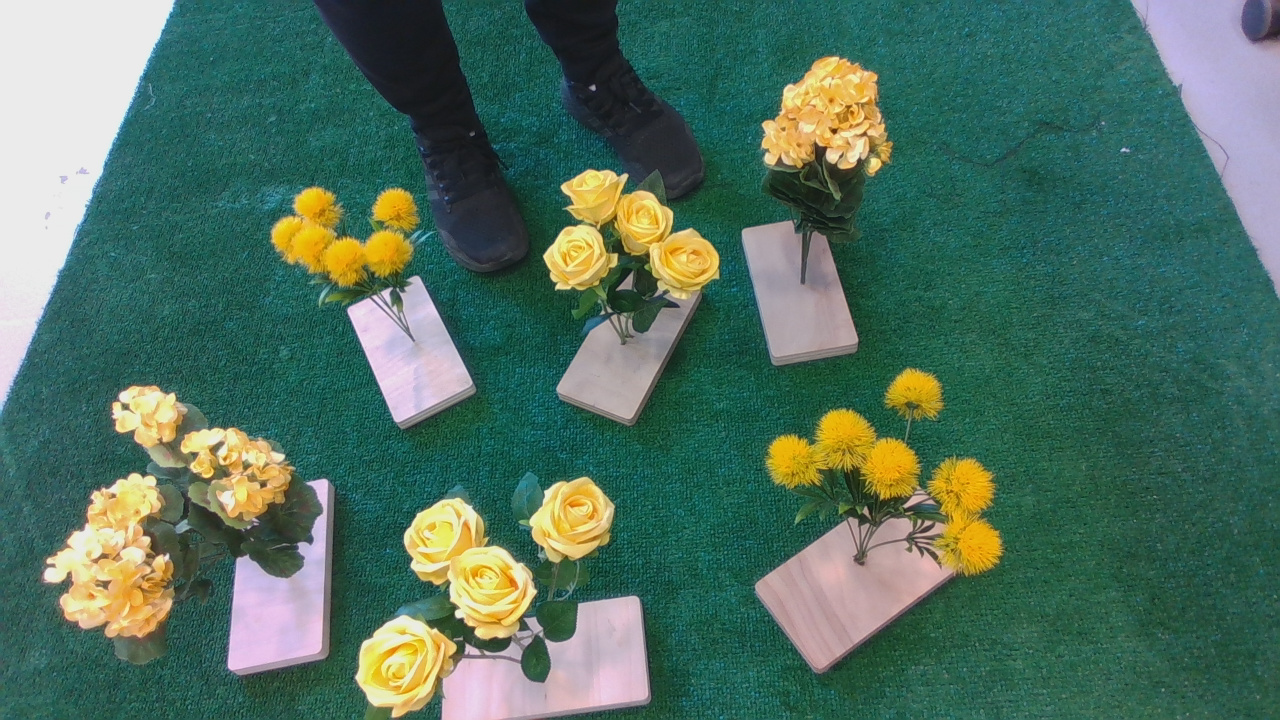dandelion: (768, 371, 1036, 586), (263, 179, 435, 315)
geranium: (35, 386, 327, 659), (758, 45, 903, 251)
rose: (354, 465, 630, 720), (547, 172, 731, 335)
